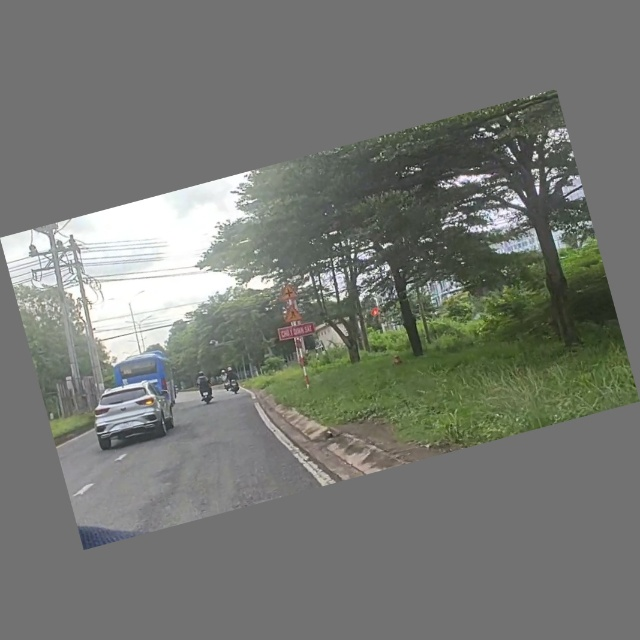W.205a: (276, 281, 301, 304)
W.224: (280, 304, 305, 325)
